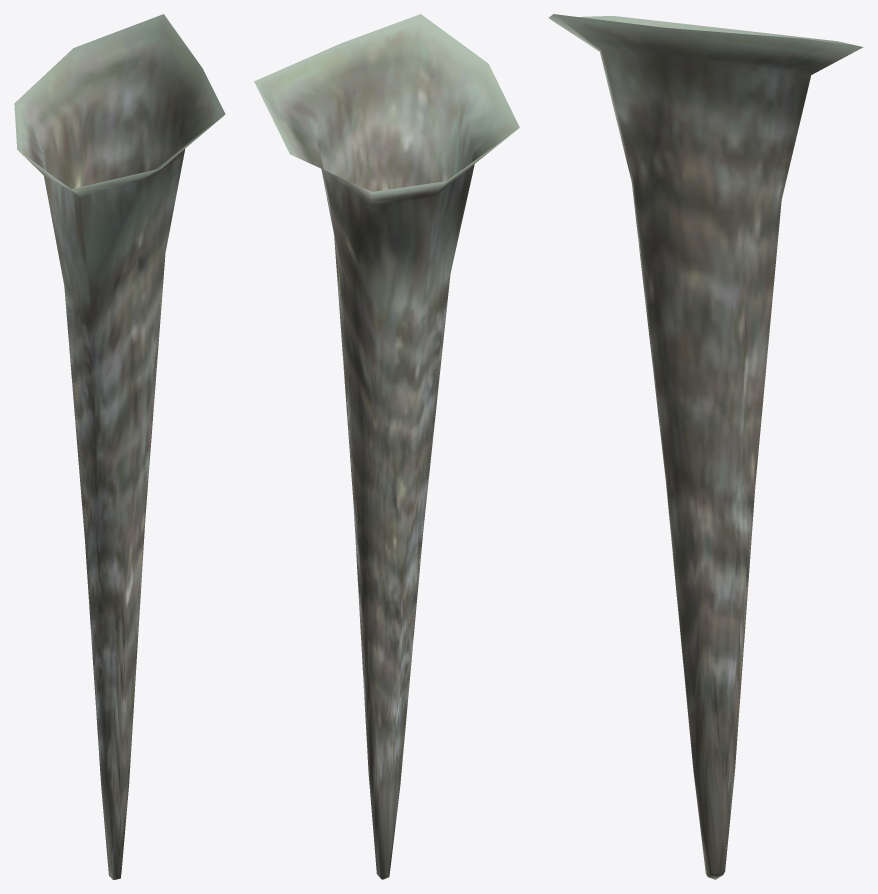
The model's file is TROLLHOLE02_PS-MAINSTALAG24.fbx.
3 views of the same model, side by side, from view 1: azimuth 30°, elevation 25°; view 2: azimuth 150°, elevation 25°; view 3: azimuth 270°, elevation 25° (orthographic). The views are drawn at different scales.
Visible parts, largest first — view 1: TROLLHOLE02_PS-MAINSTALAG24; view 2: TROLLHOLE02_PS-MAINSTALAG24; view 3: TROLLHOLE02_PS-MAINSTALAG24.
Boxes of the visible parts, x1,y1,x2,y2 form: TROLLHOLE02_PS-MAINSTALAG24: [14, 14, 225, 879]; TROLLHOLE02_PS-MAINSTALAG24: [254, 14, 519, 879]; TROLLHOLE02_PS-MAINSTALAG24: [548, 14, 863, 879].
Bounding box in the file's own units: 8160 × 35174 × 11319.
1 material, 1 textured.
